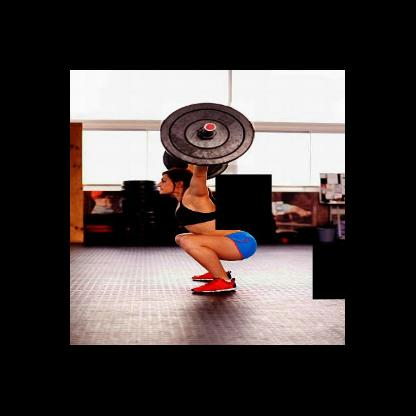barbell: (161, 103, 255, 165)
